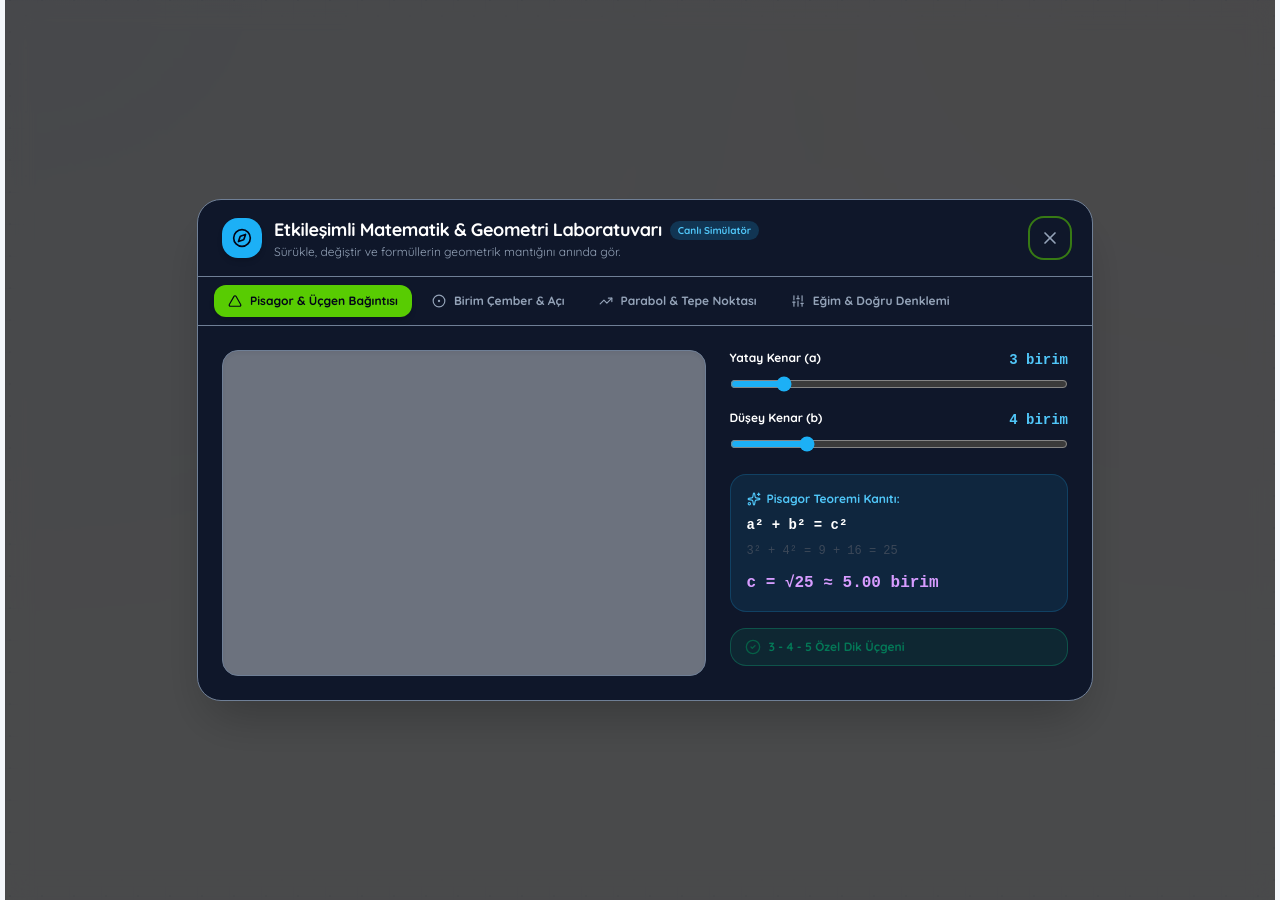
Test: GeometryMathLabModal › switches to Circle tab and updates trigonometric values
Click the button "Birim Çember & Açı": (498, 301) top-left (418, 285), bottom-right (578, 317)
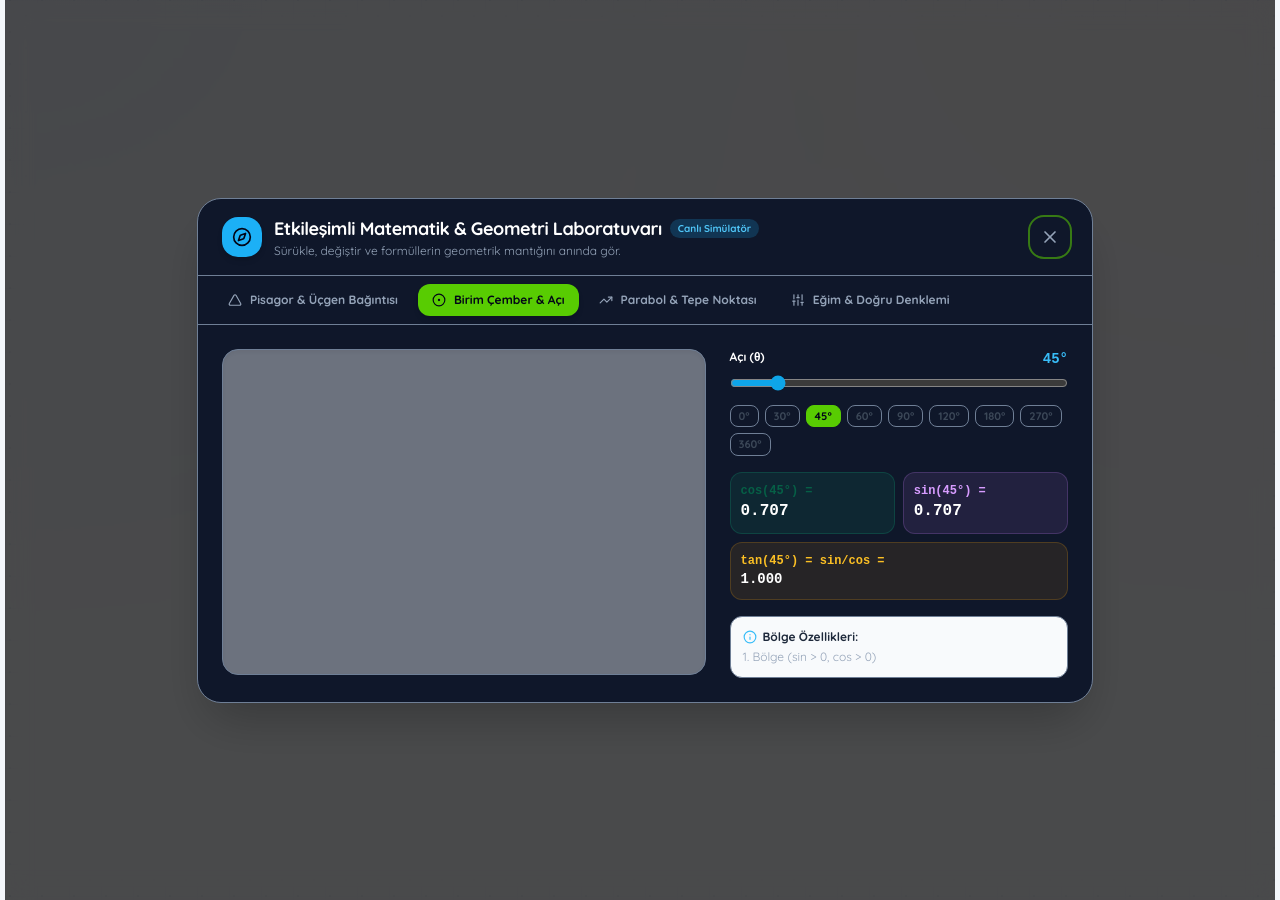
Check: the text "1. Bölge (sin > 0, cos > 0)" is shown, box top-left (742, 648), bottom-right (876, 664)
